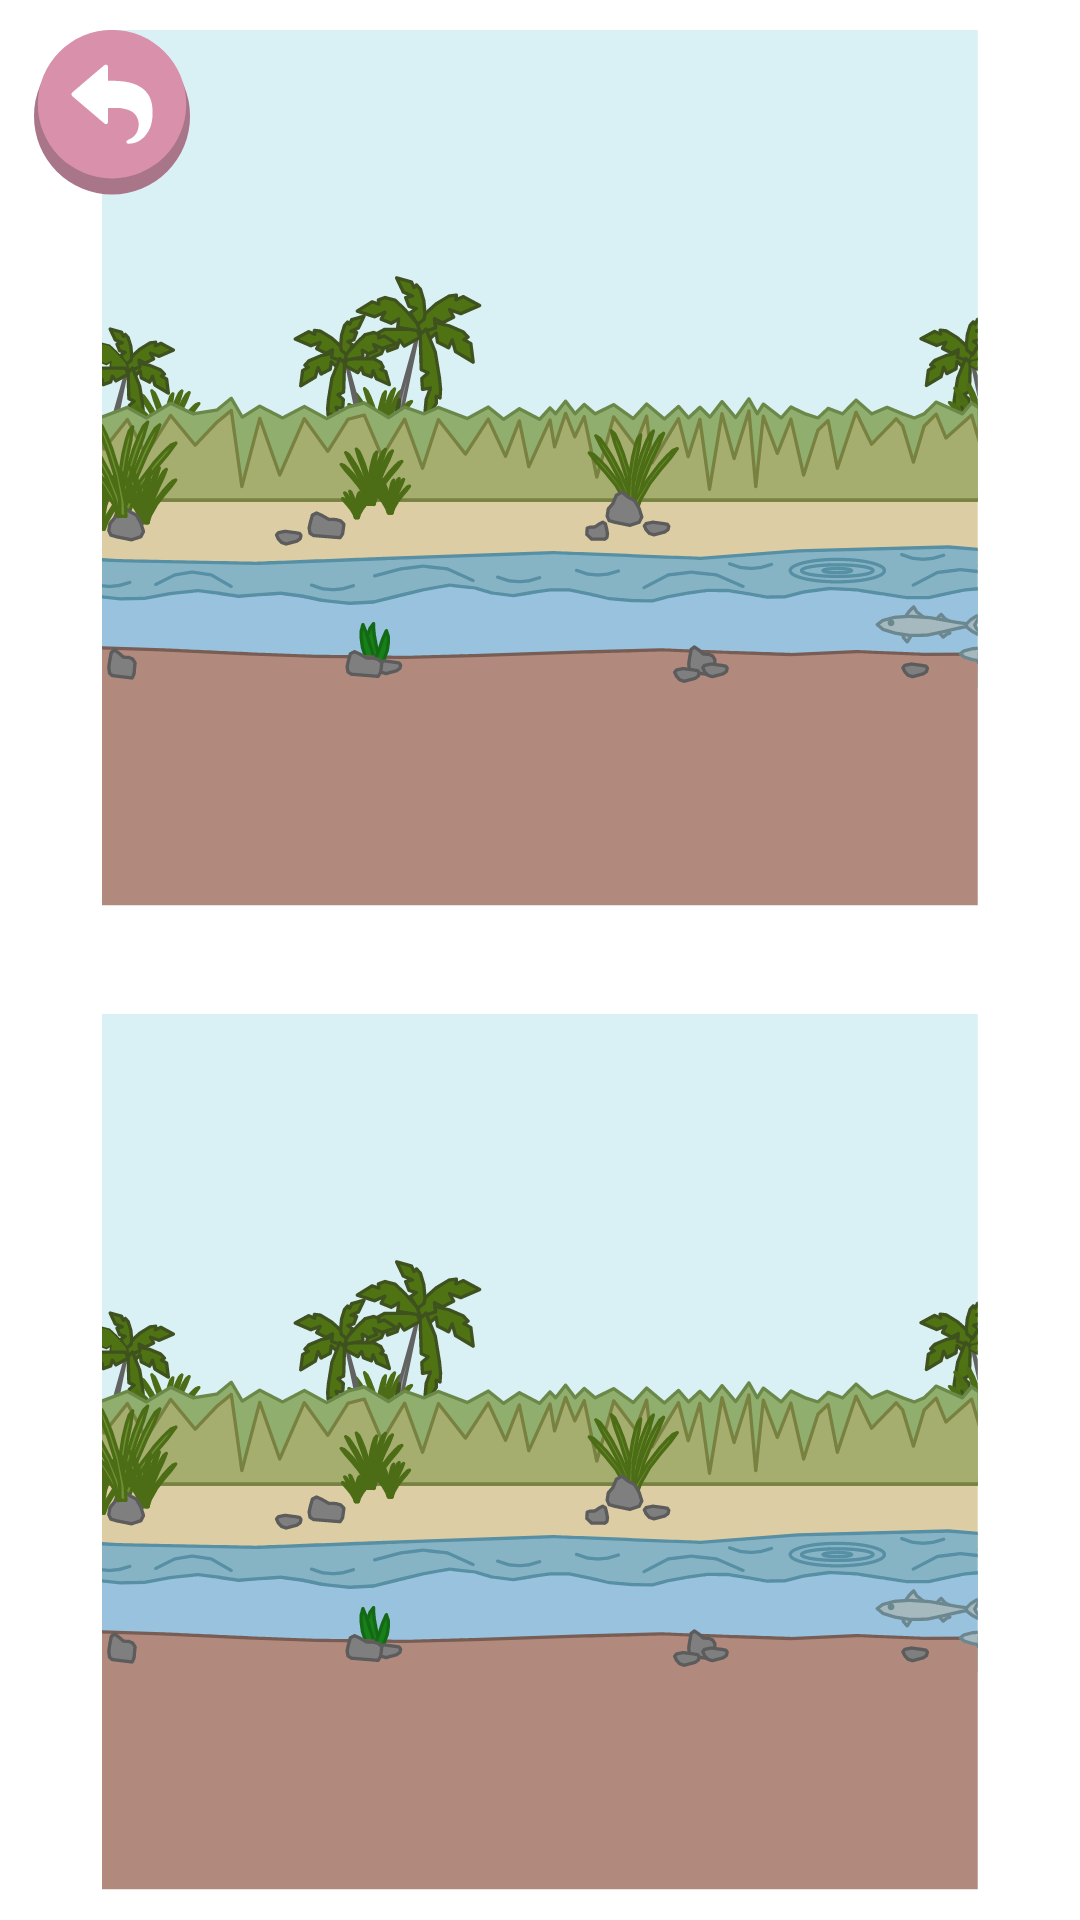

Icon click points for this 1080*1920 phone screenshot, format (x,y):
back: (112,112)
